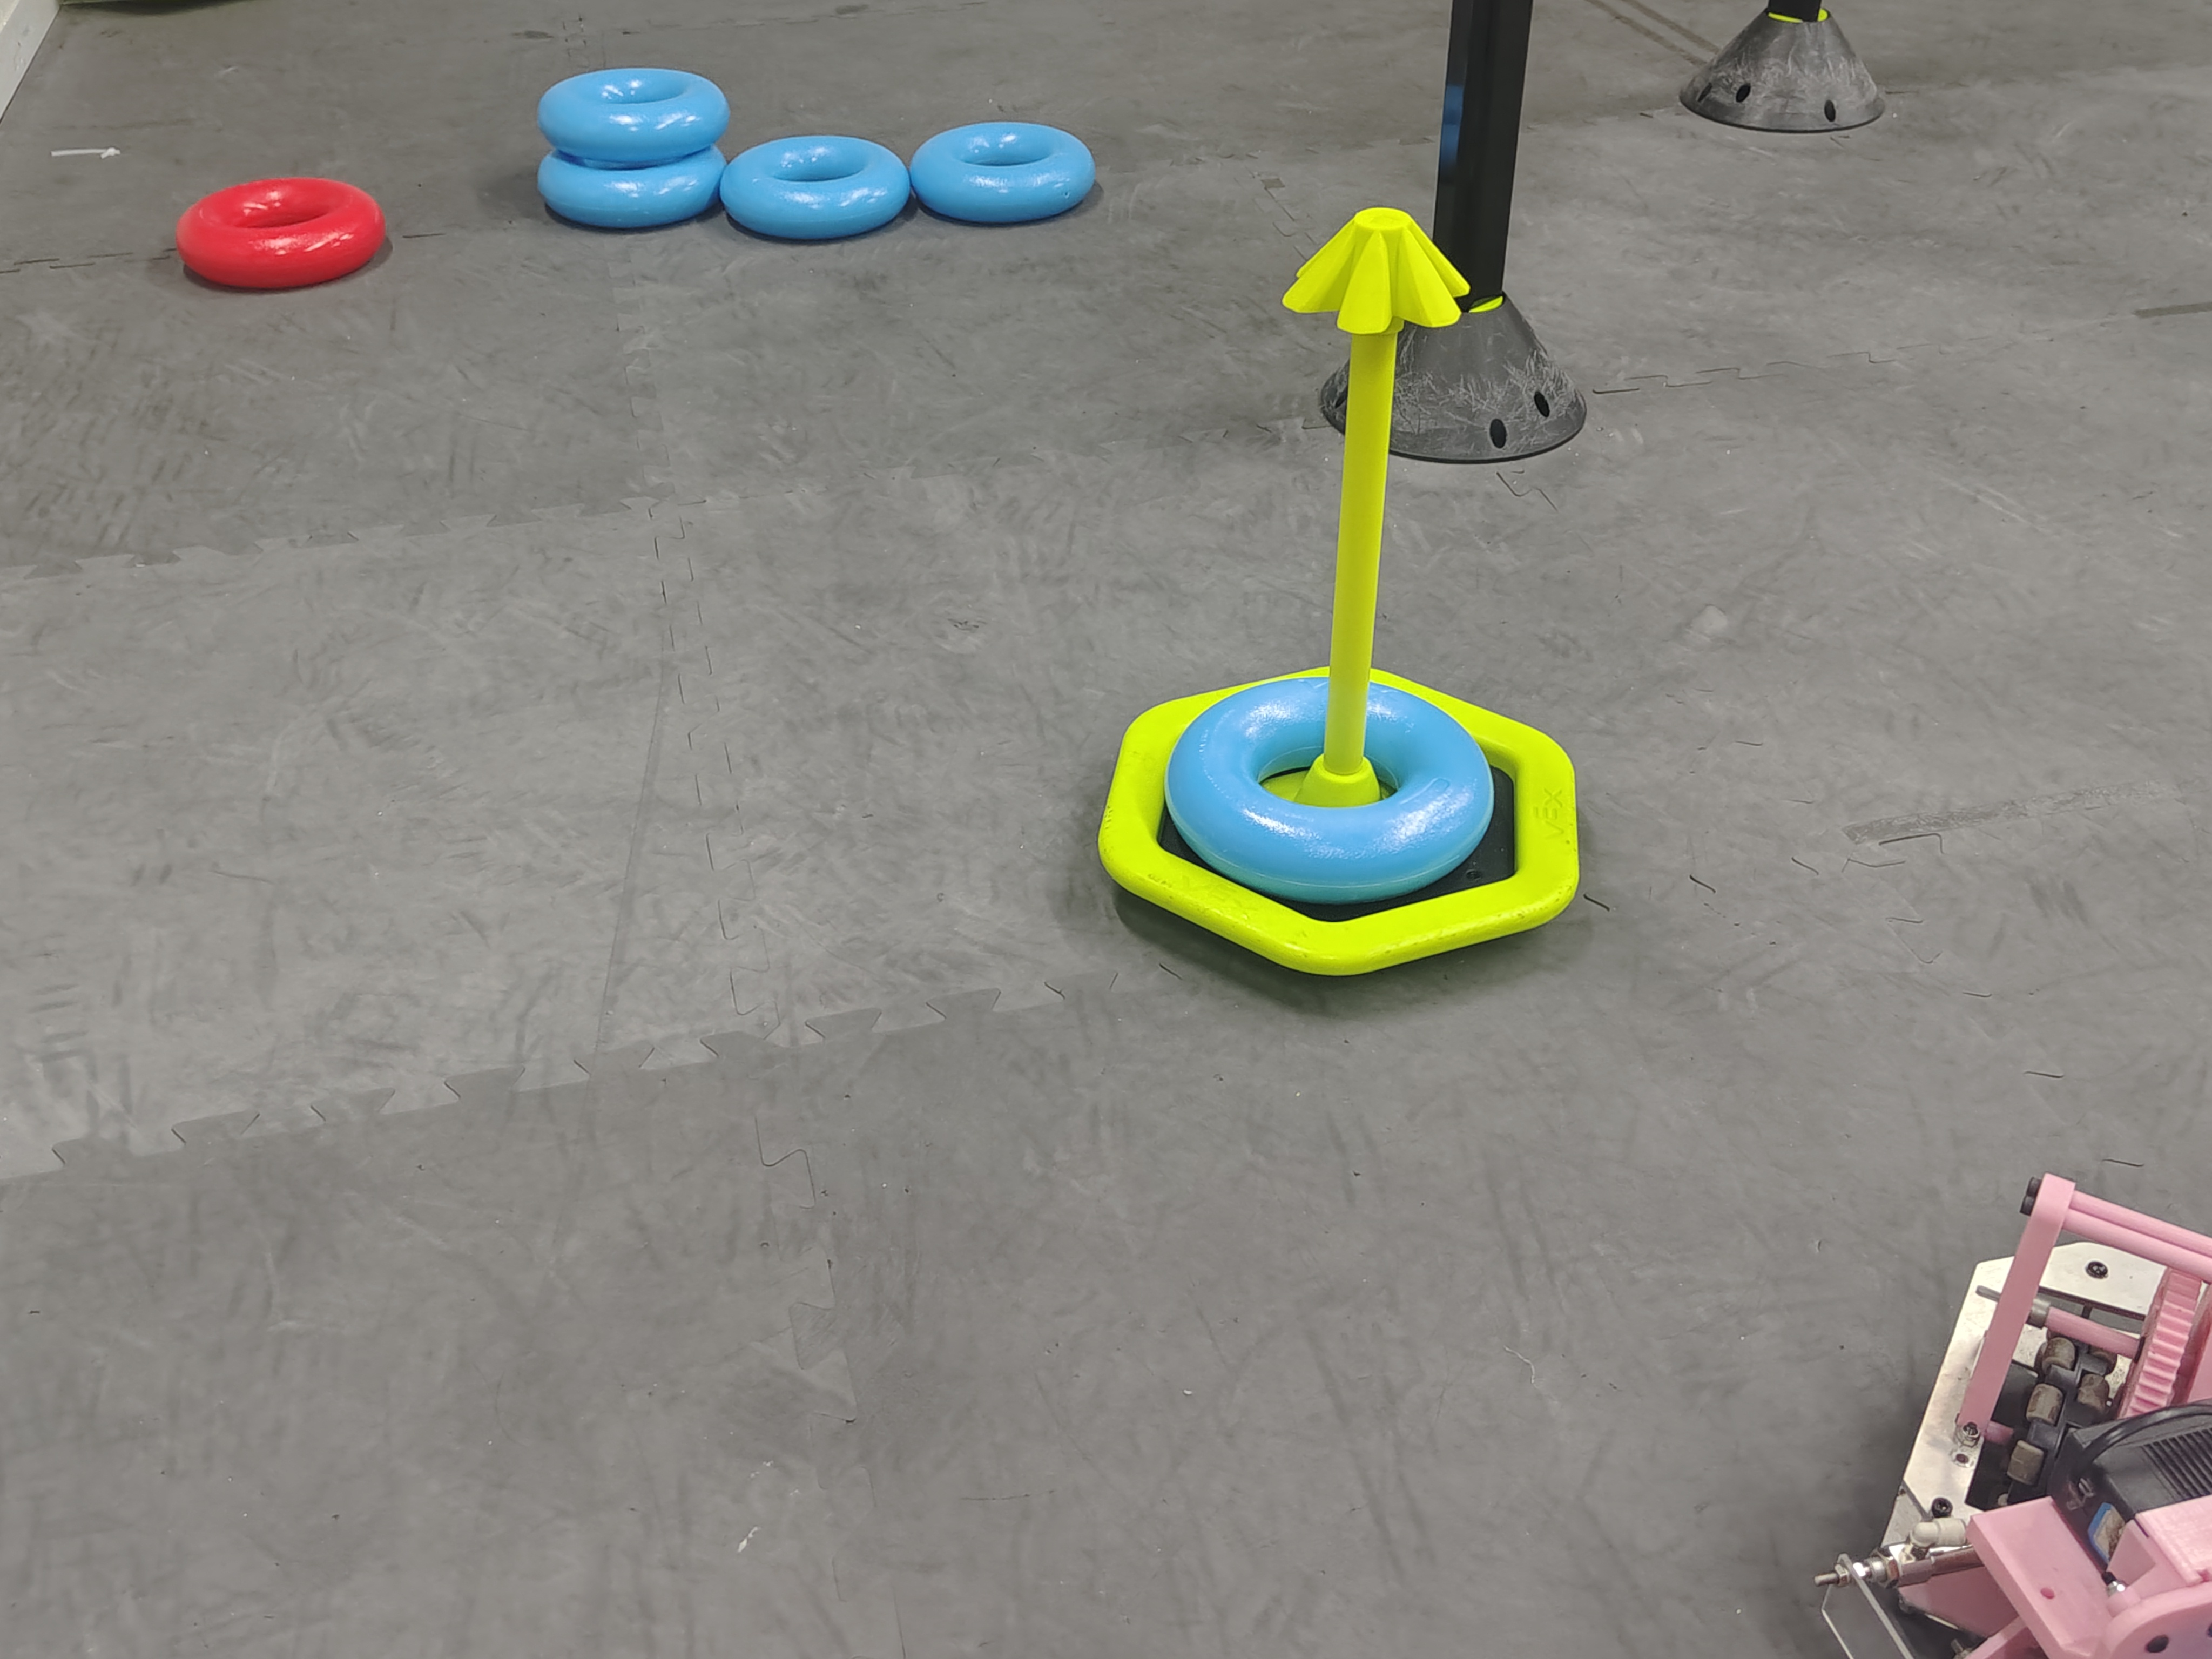blue: (1151, 671, 1503, 906), (524, 64, 730, 162), (726, 138, 909, 239), (913, 125, 1097, 216), (533, 143, 726, 227)
red: (174, 174, 394, 289)
score: (1094, 202, 1597, 985)
